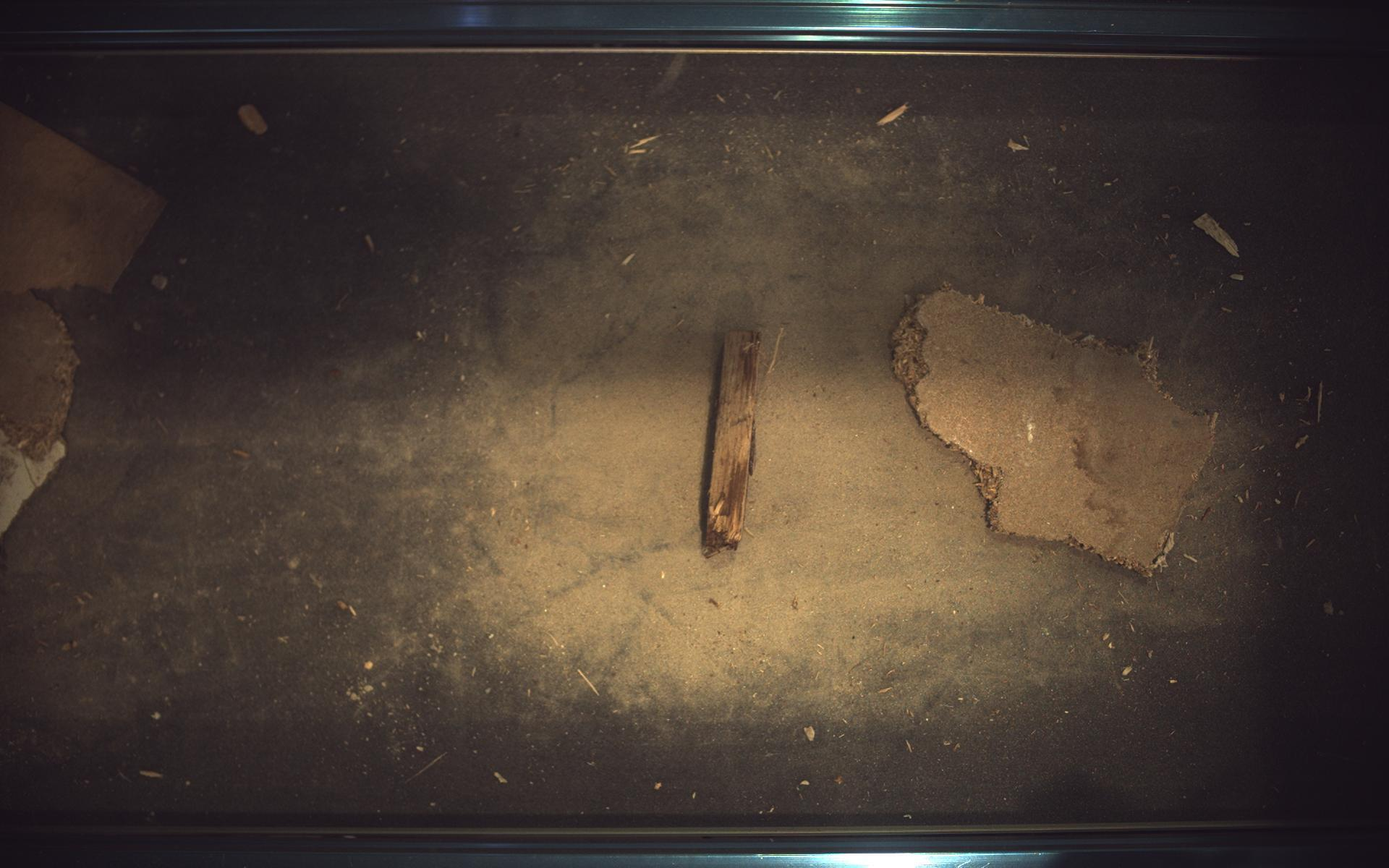wood: (894, 289, 1217, 576), (705, 331, 761, 554)
